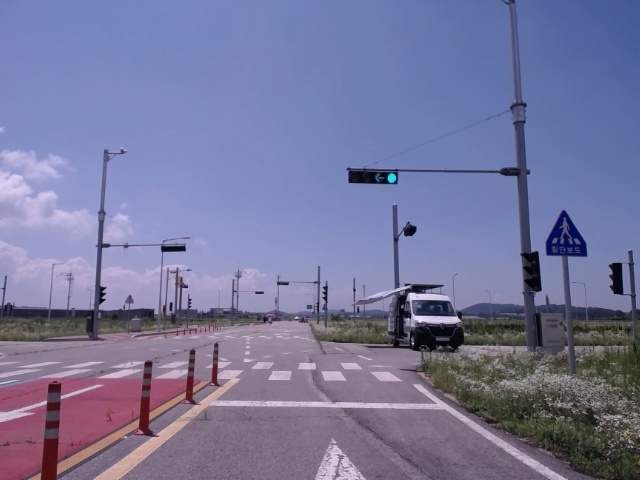all_green_4: (350, 168, 399, 182)
